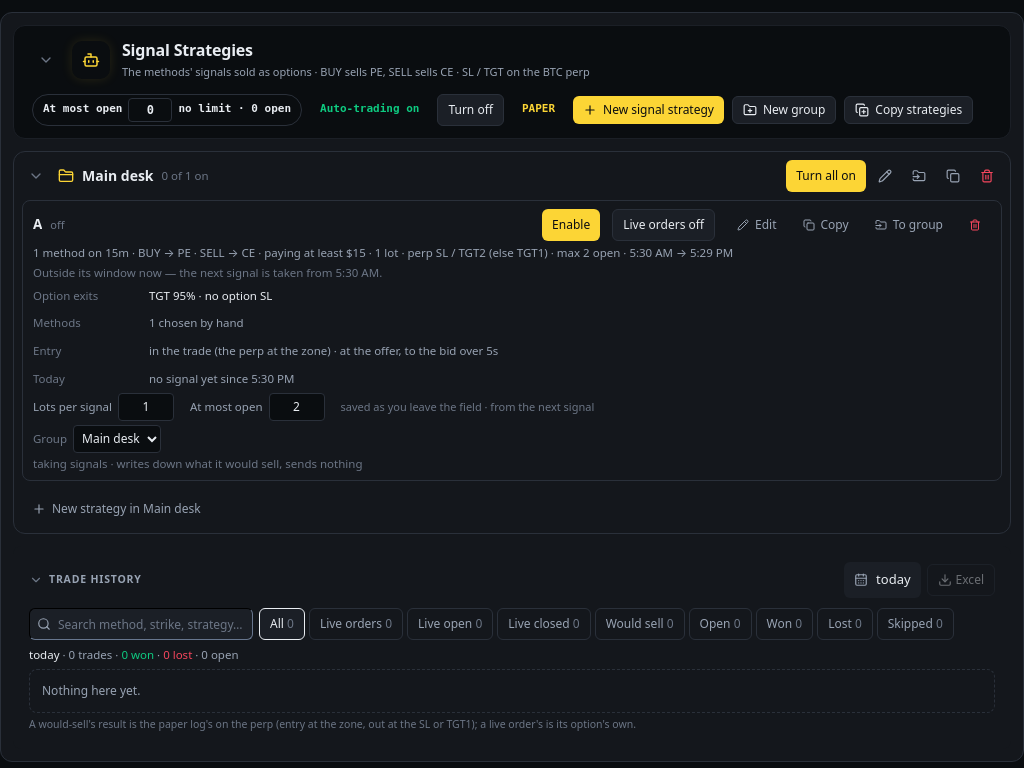
Test case: the card, by group › [critical] cloned to the other account: the account picked, every copy said to be off
Step 1. Click the button named "Clone Main desk" → x=953, y=176, box 938,160 -> 968,192
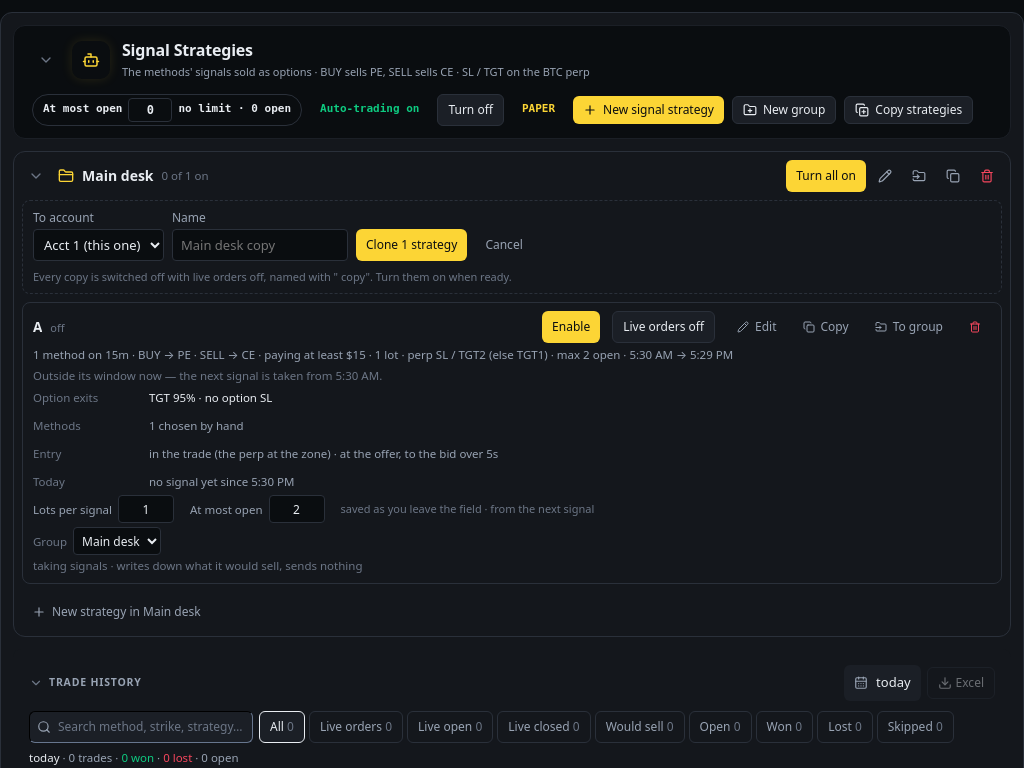
Result: the text "switched off with live orders off, named with \" copy\"" is shown at 33,268 -> 512,284
Step 2. Select "Low win%" in the dropdown named "Clone to account" → x=98, y=244, box 33,228 -> 164,260
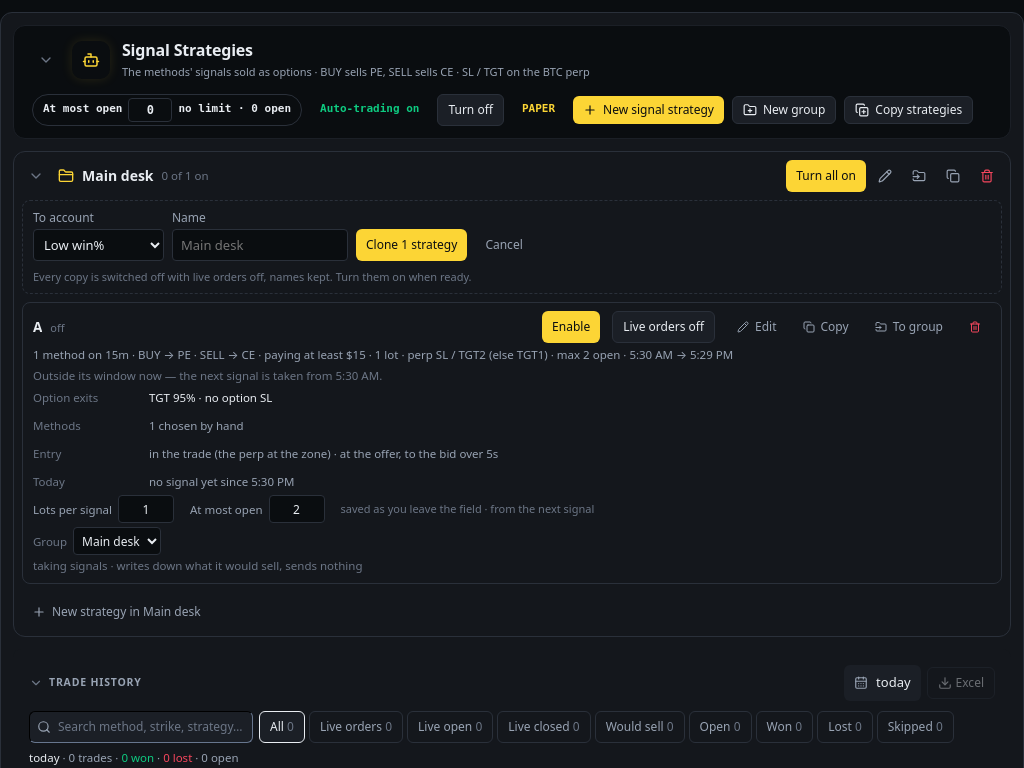
Result: the text "names kept" is shown at 33,268 -> 472,284
Step 3. Click the button "Clone 1 strategy" → x=412, y=244, box 356,228 -> 467,260
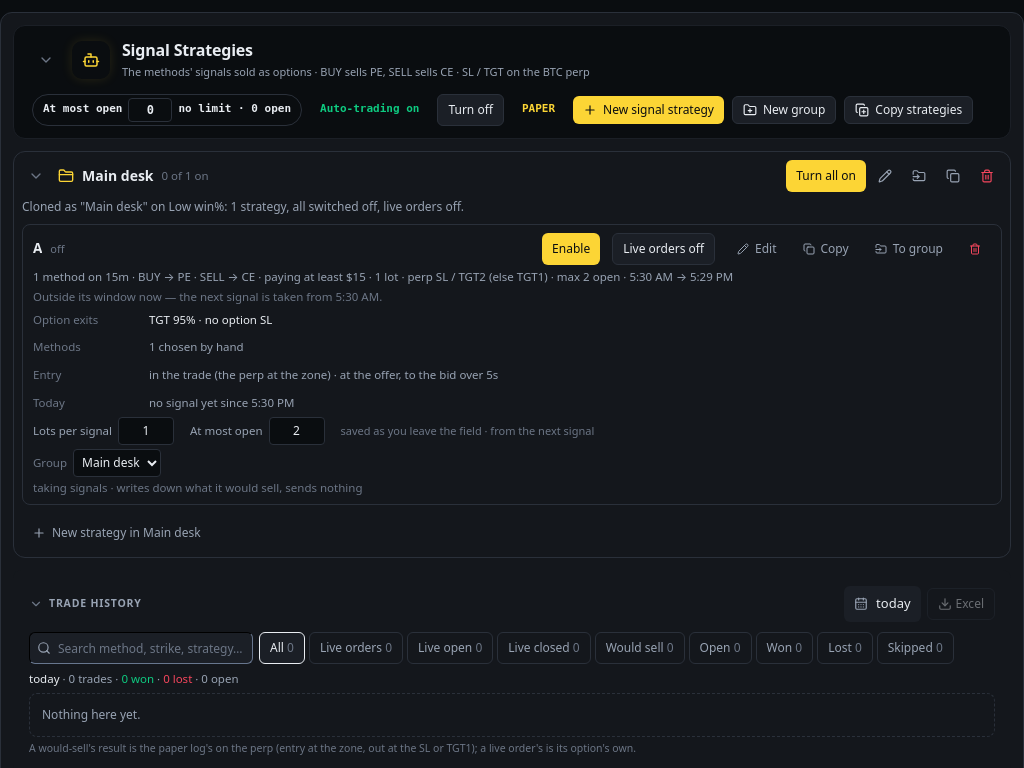
Result: the text "Cloned as \"Main desk\" on Low win%: 1 strategy, all switched off, live orders off." is shown at 22,198 -> 464,214
